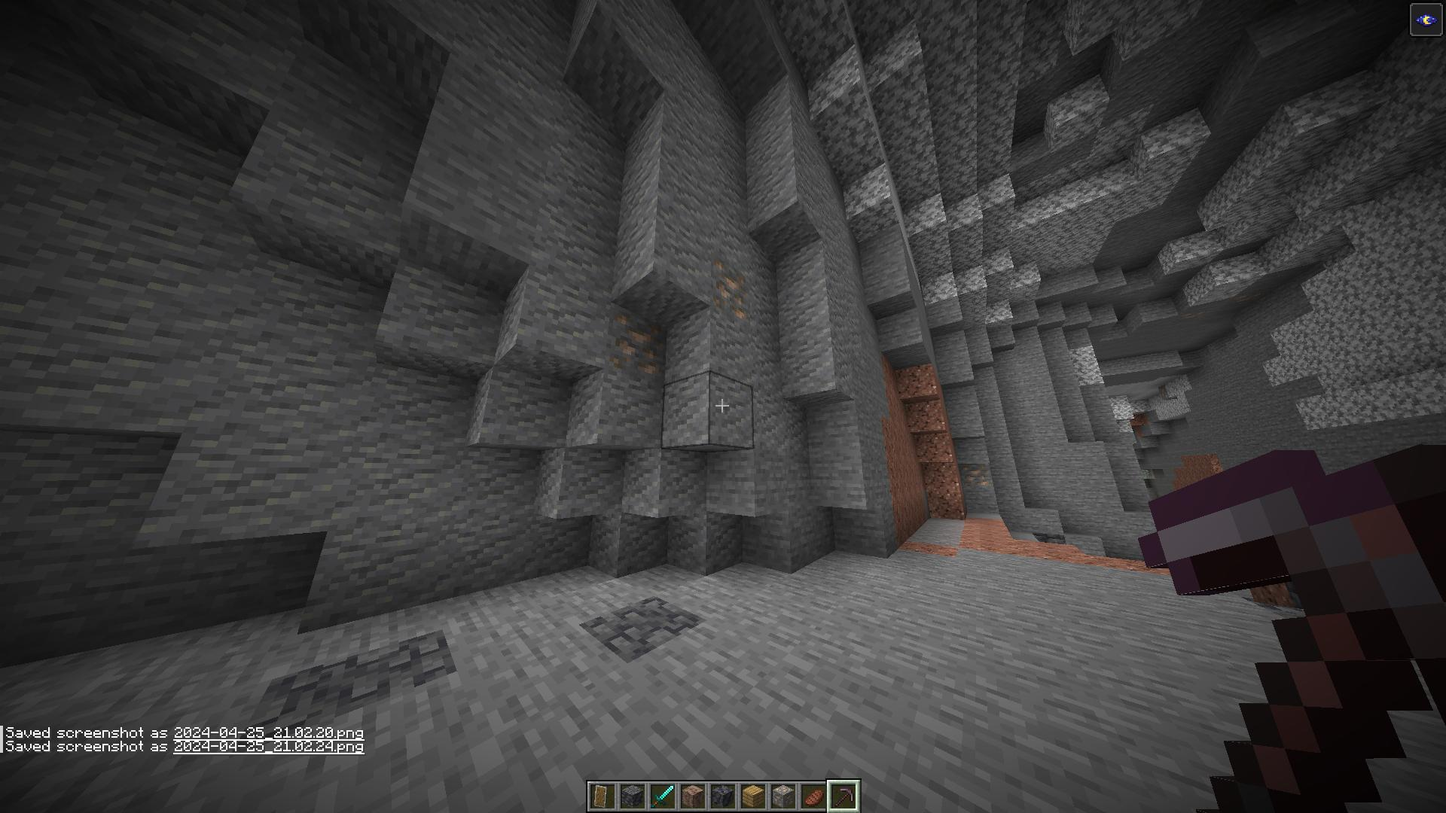iron ore: (608, 308, 668, 383), (710, 256, 753, 323), (962, 459, 991, 490)
